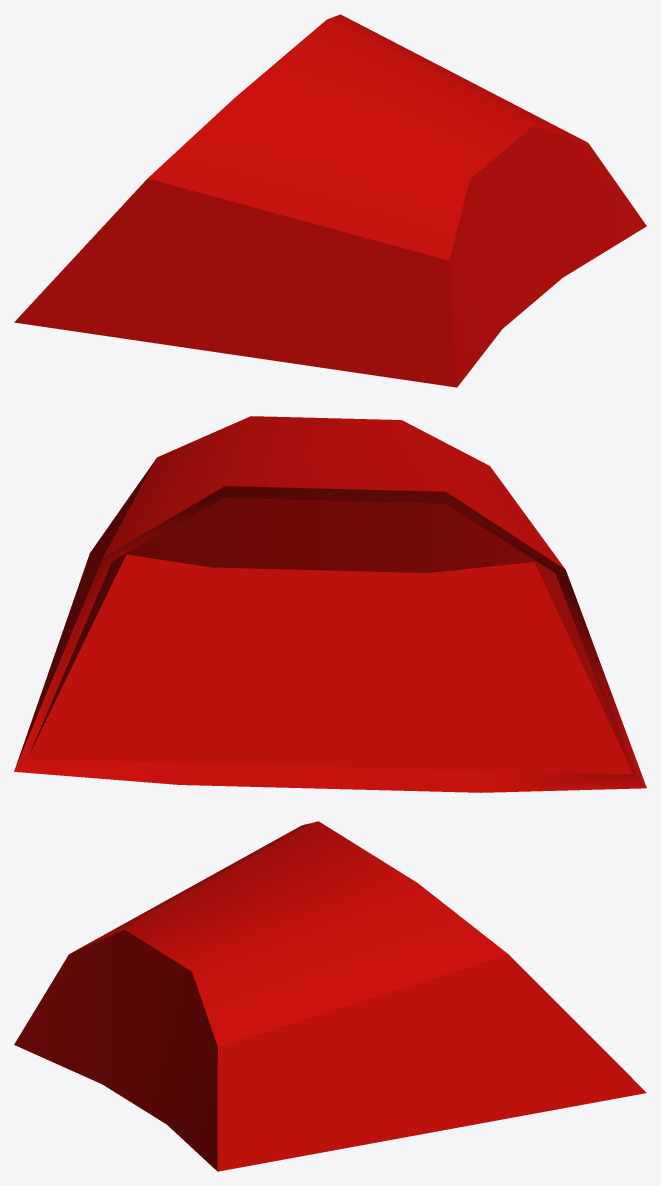
Rendered from fbx_hamburger_ff_box.fbx.
3 views of the same model, one above another, from view 1: azimuth 30°, elevation 25°; view 2: azimuth 150°, elevation 25°; view 3: azimuth 270°, elevation 25° (orthographic). The views are drawn at different scales.
Visible parts, largest first — view 1: fbx_hamburger_ff_box; view 2: fbx_hamburger_ff_box; view 3: fbx_hamburger_ff_box.
Boxes of the visible parts, <box> form: fbx_hamburger_ff_box: <box>14,14,646,387</box>; fbx_hamburger_ff_box: <box>14,416,646,792</box>; fbx_hamburger_ff_box: <box>14,821,646,1171</box>.
Size of the model in its own units: 0.7817 by 0.27 by 0.777.
1 material, 1 textured.
